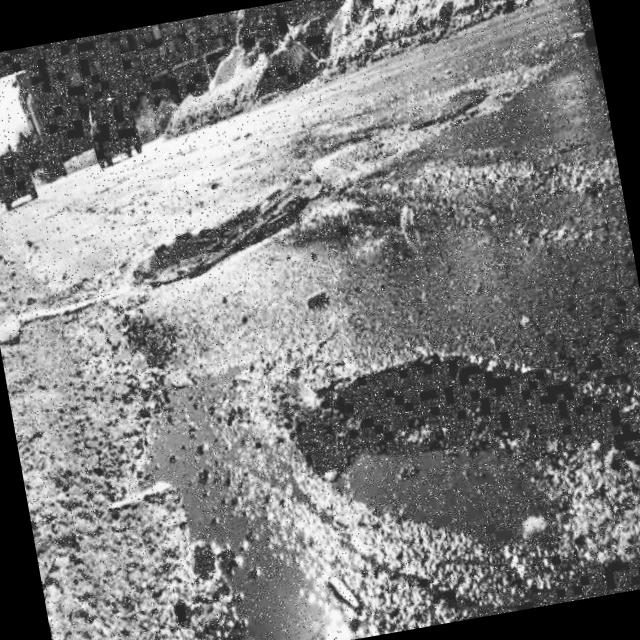Pothole: (261, 264, 640, 640)
